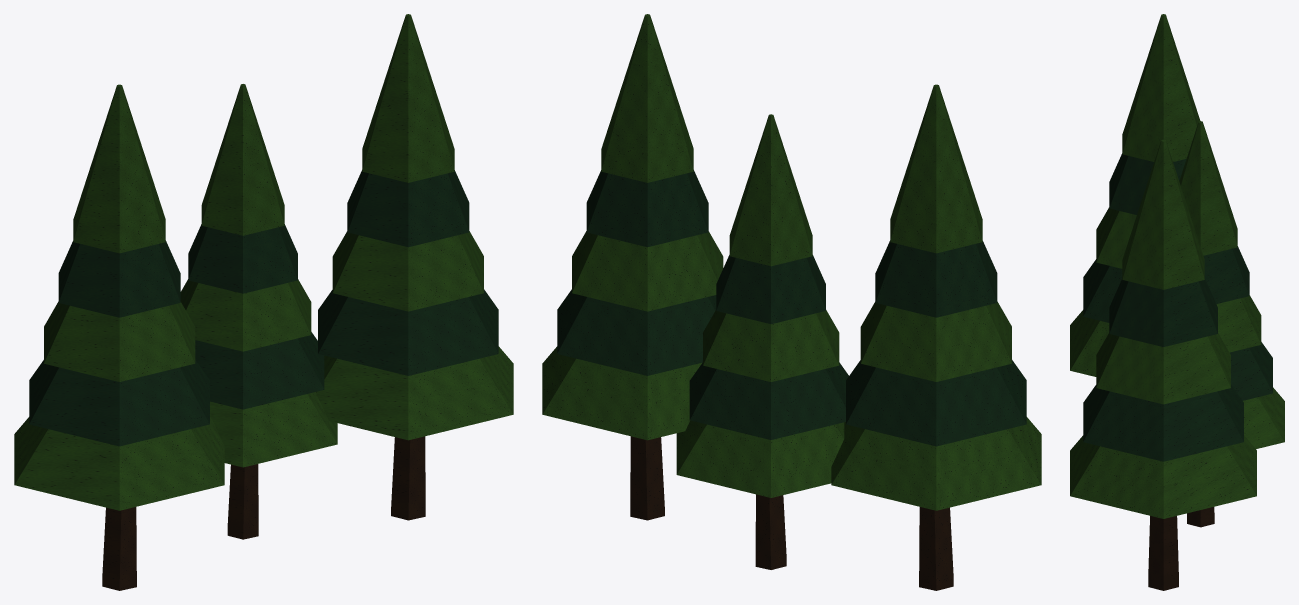
File: PROP-196A5C36326A_lod2.glb
3 views of the same model, side by side, from view 1: azimuth 30°, elevation 25°; view 2: azimuth 150°, elevation 25°; view 3: azimuth 270°, elevation 25° (orthographic). The views are drawn at different scales.
Parts seen in each view (by area): view 1: layered_conifer_crown.020, layered_conifer_crown.021, trunk.011; view 2: layered_conifer_crown.020, layered_conifer_crown.021, trunk.011; view 3: layered_conifer_crown.020, layered_conifer_crown.021, trunk.011.
Part boxes in pixels (x1,y1,x2,y2): layered_conifer_crown.020: (14, 14, 513, 510); layered_conifer_crown.021: (29, 170, 498, 446); trunk.011: (102, 436, 425, 590); layered_conifer_crown.020: (542, 14, 1041, 510); layered_conifer_crown.021: (557, 170, 1026, 446); trunk.011: (630, 436, 953, 590); layered_conifer_crown.020: (1070, 14, 1284, 518); layered_conifer_crown.021: (1083, 153, 1272, 461); trunk.011: (1148, 507, 1214, 590).
Bounding box in the file's own units: 6.91 × 6.58 × 2.89.
Materials: 3 (3 with a texture image).
